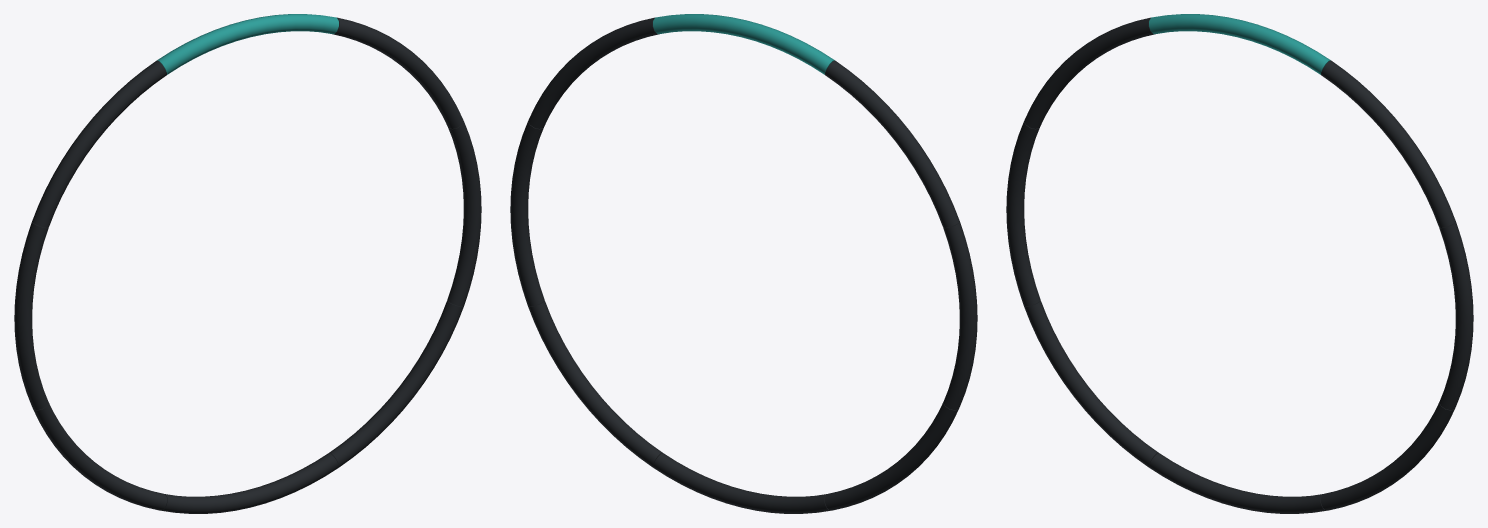
Rendered from full.glb.
The picture shows the model from 3 angles, left to right: view 1: azimuth 30°, elevation 25°; view 2: azimuth 150°, elevation 25°; view 3: azimuth 330°, elevation 25°; orthographic projection.
Visible parts, largest first — view 1: Padded section 2, Padded section 6, Padded section 3, Padded section 7, Padded section 1, Padded section 5, Padded section 4, Padded section 0; view 2: Padded section 2, Padded section 6, Padded section 3, Padded section 7, Padded section 1, Padded section 5, Padded section 4, Padded section 0; view 3: Padded section 0, Padded section 4, Padded section 7, Padded section 3, Padded section 1, Padded section 5, Padded section 6, Padded section 2.
Boxes of the visible parts, x1,y1,x2,y2 form: Padded section 2: [32, 60, 166, 227]; Padded section 6: [329, 300, 463, 467]; Padded section 3: [14, 222, 48, 410]; Padded section 7: [447, 121, 481, 306]; Padded section 1: [157, 14, 338, 74]; Padded section 5: [162, 453, 338, 513]; Padded section 4: [33, 402, 166, 510]; Padded section 0: [332, 17, 463, 128]; Padded section 2: [825, 60, 959, 227]; Padded section 6: [528, 300, 662, 467]; Padded section 3: [943, 222, 977, 410]; Padded section 7: [510, 121, 544, 306]; Padded section 1: [653, 14, 834, 74]; Padded section 5: [653, 453, 829, 513]; Padded section 4: [825, 402, 958, 510]; Padded section 0: [528, 17, 659, 128]; Padded section 0: [1321, 60, 1455, 227]; Padded section 4: [1024, 300, 1158, 467]; Padded section 7: [1439, 222, 1473, 410]; Padded section 3: [1006, 121, 1040, 306]; Padded section 1: [1149, 14, 1330, 74]; Padded section 5: [1149, 453, 1325, 513]; Padded section 6: [1321, 402, 1454, 510]; Padded section 2: [1024, 17, 1155, 128].
Size of the model in its own units: 0.9 by 0.9 by 0.0285.
